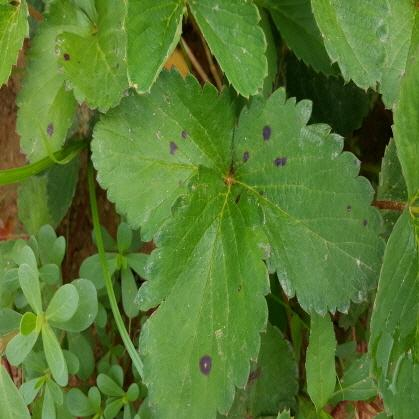Leaf Spot: (229, 86, 387, 318), (133, 164, 271, 418), (89, 62, 244, 242), (55, 0, 187, 114), (12, 0, 98, 164)
